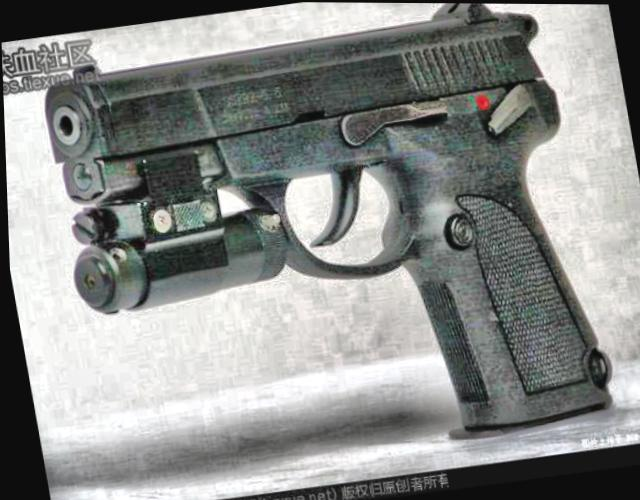pistol: (27, 0, 618, 489)
